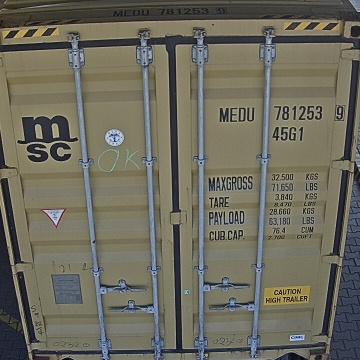serial_id: (220, 104, 345, 121)
